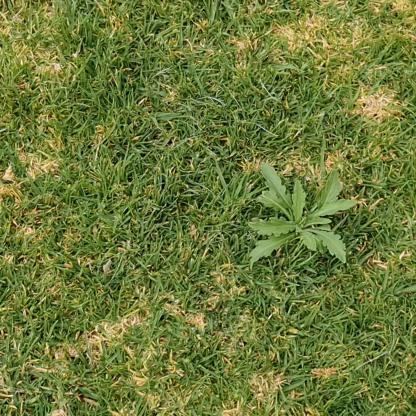Weeds: (249, 163, 357, 264)
